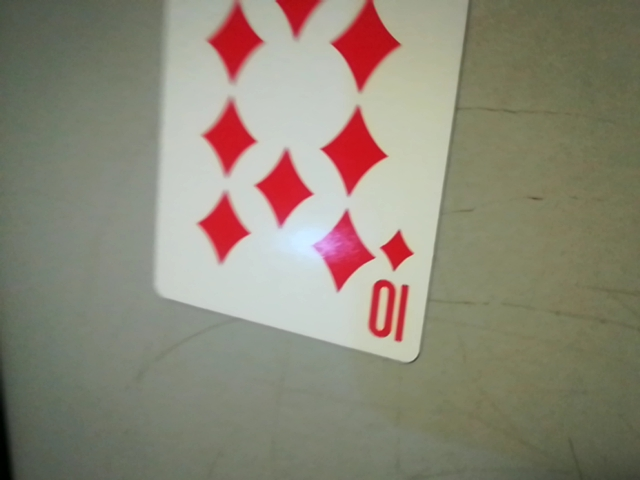fk 10: (359, 225, 423, 353)
